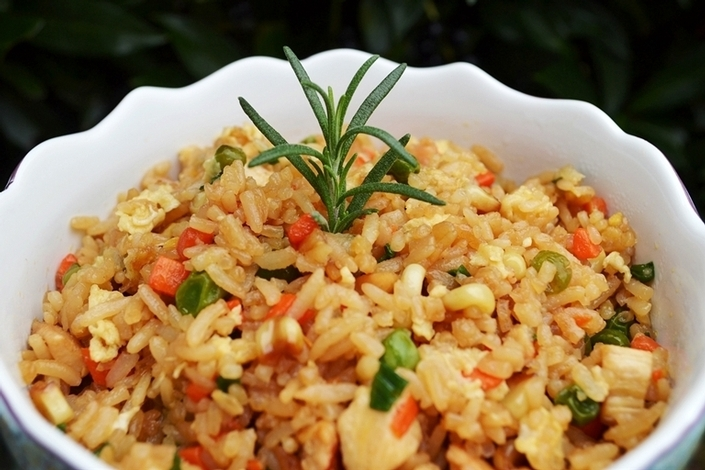plain rice: (128, 195, 529, 391)
